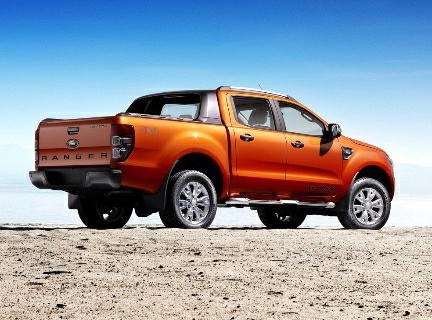福特-Ranger: (28, 82, 399, 228)
